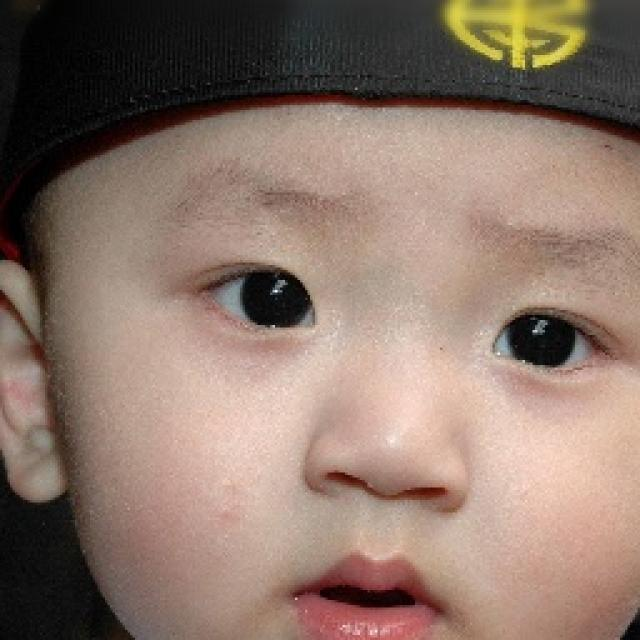no-glasses: (156, 228, 638, 389)
